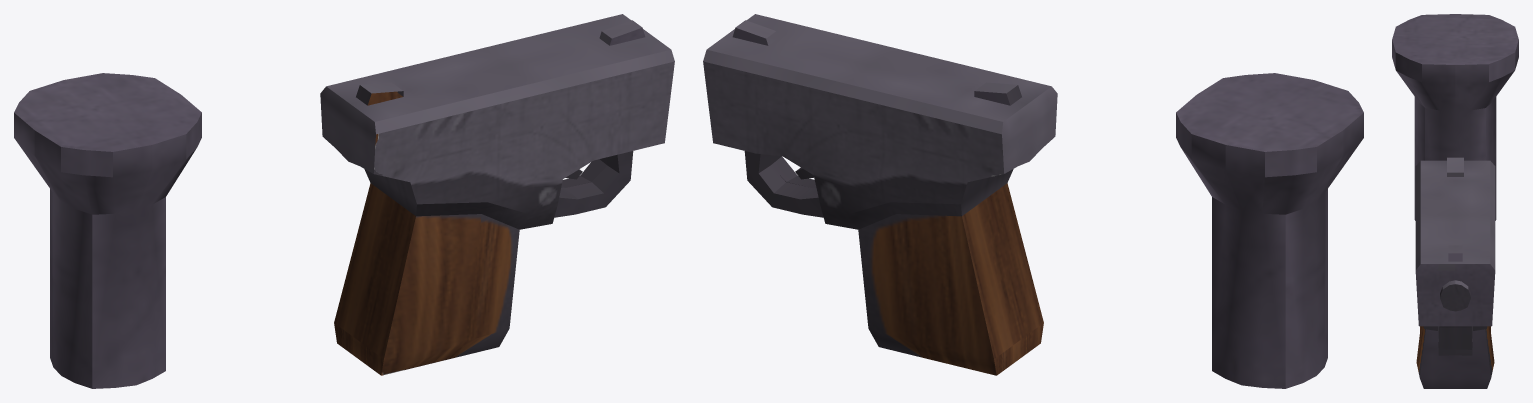
The model's file is Gun.fbx.
3 renders of one model, left to right at view 1: azimuth 30°, elevation 25°; view 2: azimuth 150°, elevation 25°; view 3: azimuth 270°, elevation 25°, orthographic. The views are drawn at different scales.
Parts seen in each view (by area): view 1: Gun, Lantern; view 2: Gun, Lantern; view 3: Gun, Lantern.
Part boxes in pixels (left/top/right/bottom): Gun: left=320, top=14, right=674, bottom=375; Lantern: left=14, top=73, right=201, bottom=388; Gun: left=703, top=14, right=1057, bottom=375; Lantern: left=1176, top=73, right=1363, bottom=388; Gun: left=1415, top=157, right=1495, bottom=388; Lantern: left=1392, top=14, right=1518, bottom=220.
Bounding box in the file's own units: 684 × 325 × 169.
